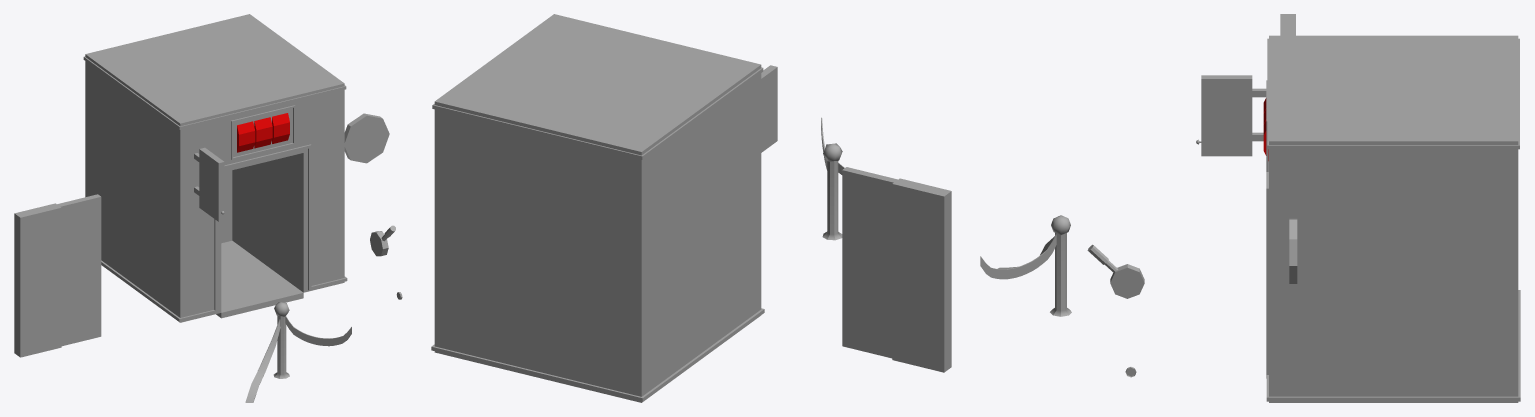
Rendered from ElavatorTexture.fbx.
3 renders of one model, left to right at view 1: azimuth 30°, elevation 25°; view 2: azimuth 150°, elevation 25°; view 3: azimuth 270°, elevation 25°, orthographic. The views are drawn at different scales.
Parts seen in each view (by area): view 1: elavator, bigdoor, smalldoor, post, ribbon2, ribbon1, handle; view 2: elavator, bigdoor, smalldoor, post; view 3: elavator, post, handle, ribbon1.
Boxes of the visible parts, bbox=[...] form: elavator: bbox=[83, 14, 389, 322]; bigdoor: bbox=[14, 203, 61, 357]; smalldoor: bbox=[57, 194, 101, 346]; post: bbox=[273, 302, 289, 378]; ribbon2: bbox=[245, 319, 280, 402]; ribbon1: bbox=[285, 316, 351, 346]; handle: bbox=[370, 225, 395, 256]; elavator: bbox=[431, 14, 777, 402]; bigdoor: bbox=[892, 178, 951, 372]; smalldoor: bbox=[842, 167, 897, 358]; post: bbox=[822, 143, 842, 240]; elavator: bbox=[1201, 35, 1520, 402]; post: bbox=[1050, 215, 1071, 316]; handle: bbox=[1087, 244, 1144, 298]; ribbon1: bbox=[980, 234, 1056, 279].
Size of the model in its own units: 5.35 by 2.81 by 5.11.
